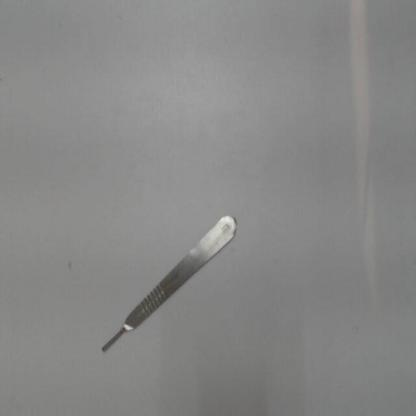No.3 BP Handle: (82, 200, 244, 368)
